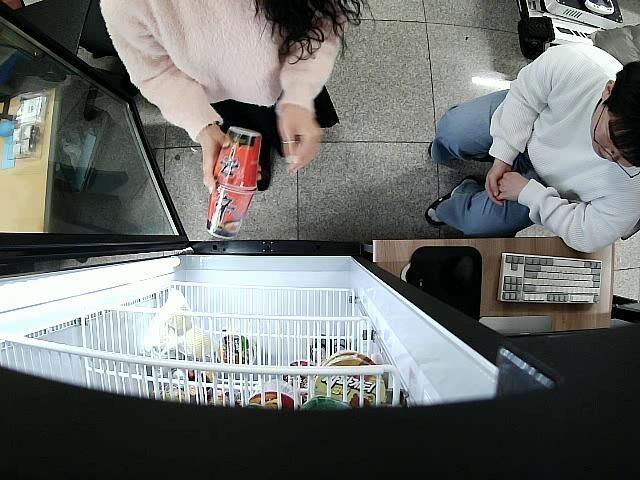02_shinRamen_S: (211, 126, 262, 190), (205, 185, 256, 240)
